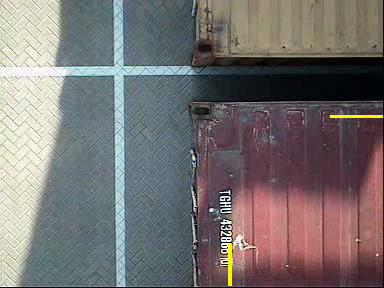groundmarker_2: (111, 27, 166, 62), (108, 175, 162, 210)
